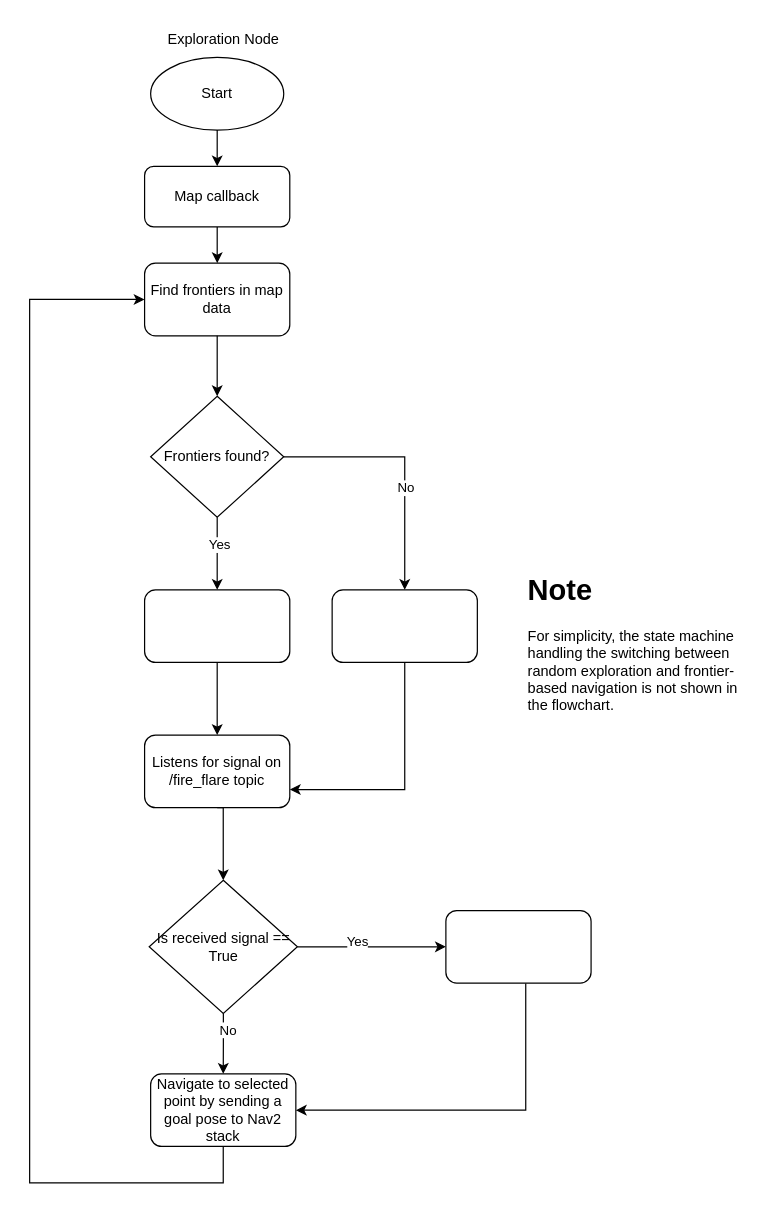
Image size: 765x1214. Some labels were removed from this diagram. The centre of each missing label's shape, as x and y in pixels:
"Choose frontier point" goes at (216,625).
"Choose random point" goes at (404,625).
"Pause exploration for 20 seconds" goes at (518,946).
